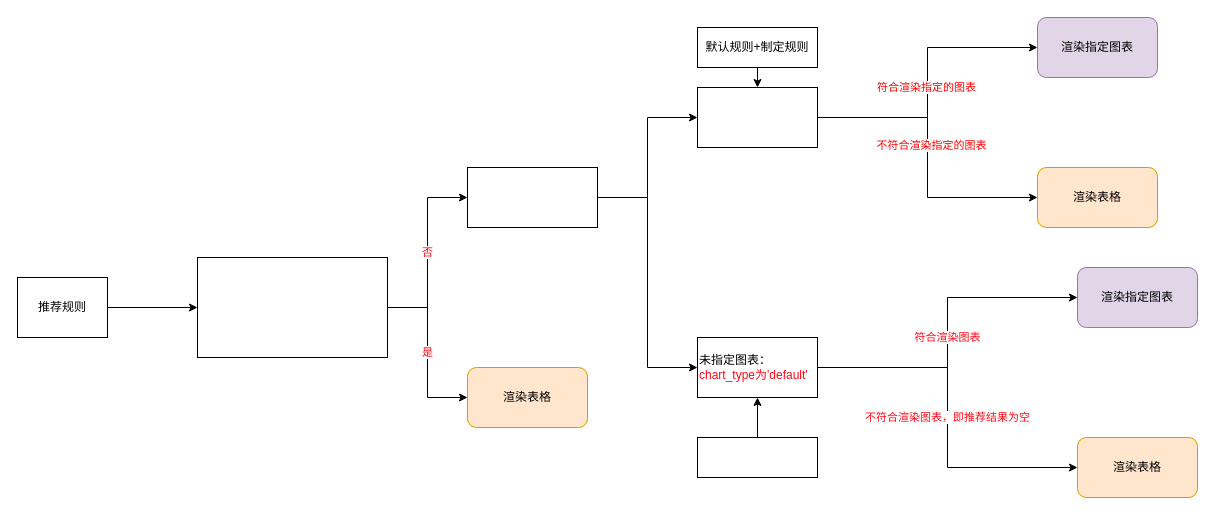
This 1215x515 diagram has some shape labels left out. Here are the shapes that lost their labels. From the top down, the centre of each, then its label:
At [757,117]: "指定图表: chart_typ非'default '时".
At [532,197]: "ava推荐".
At [292,307]: "hardcode chart_type 为空 或 chart_type为table 表格 或 数据个数<=1".
At [757,457]: "默认规则".
